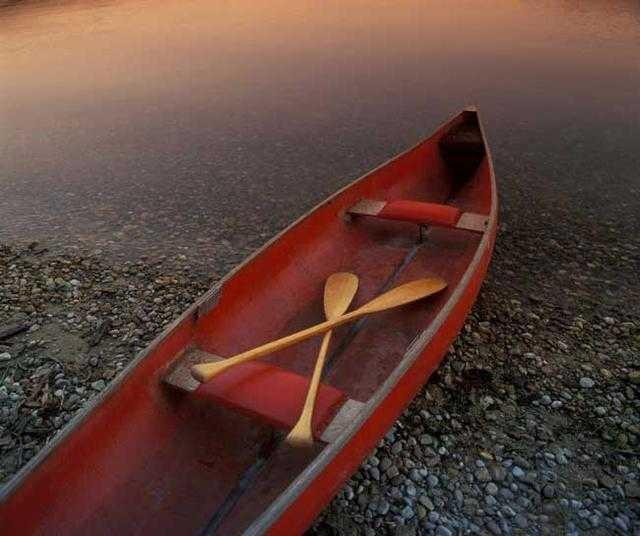kayak: (2, 102, 499, 530)
